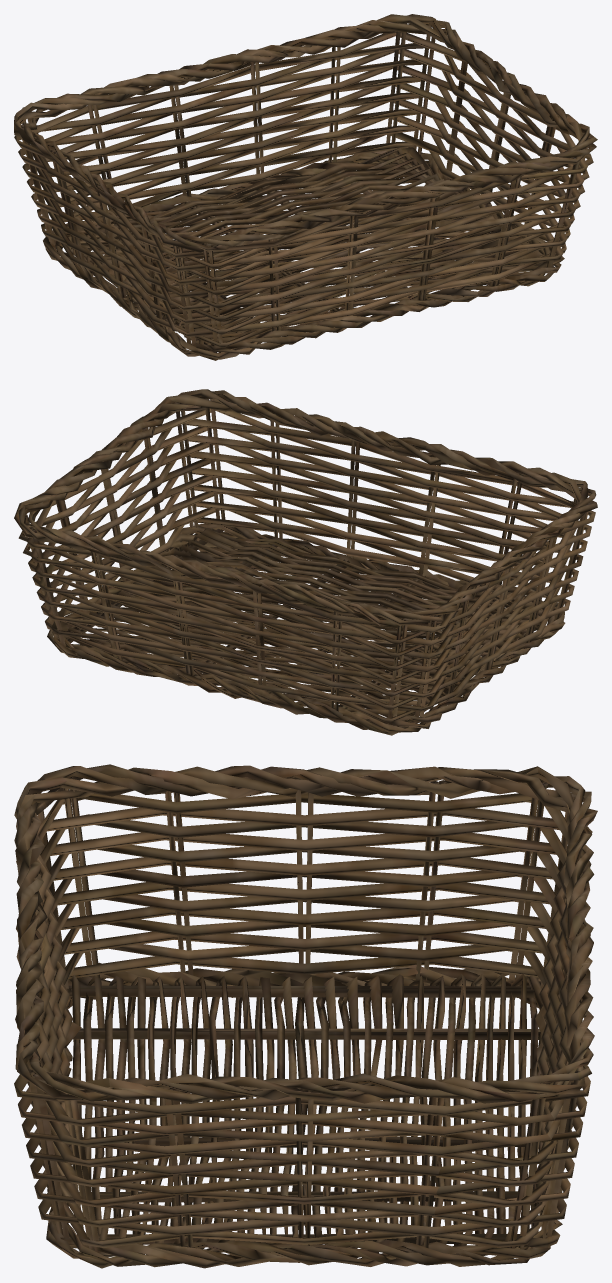
File: wicker_basket_01.gltf
3 renders of one model, top to bottom at view 1: azimuth 30°, elevation 25°; view 2: azimuth 150°, elevation 25°; view 3: azimuth 270°, elevation 25°, orthographic. The views are drawn at different scales.
Visible parts, largest first — view 1: wicker_basket_01; view 2: wicker_basket_01; view 3: wicker_basket_01.
Part boxes in pixels (left/top/right/bottom): wicker_basket_01: left=14, top=14, right=597, bottom=360; wicker_basket_01: left=14, top=389, right=597, bottom=735; wicker_basket_01: left=14, top=764, right=597, bottom=1268.
Size of the model in its own units: 0.3841 by 0.1179 by 0.2936.
Materials: 1 (1 with a texture image).
